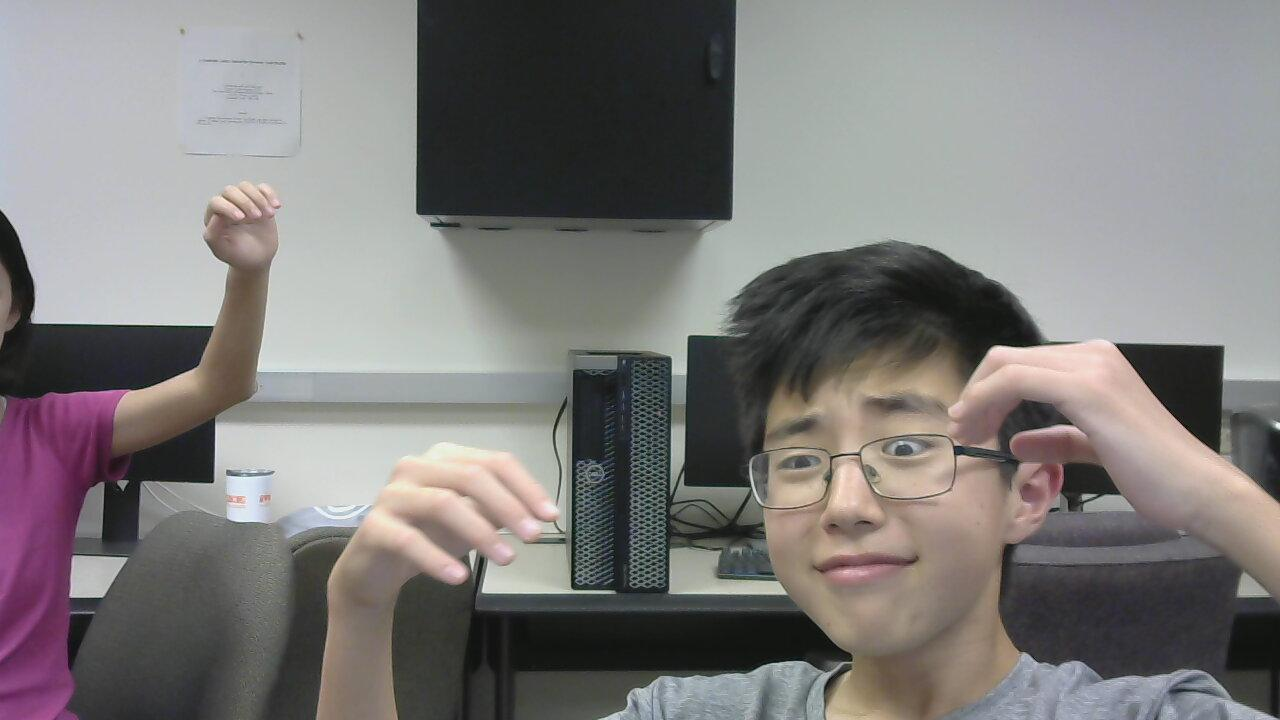hands: (950, 338, 1197, 539), (328, 423, 566, 603), (189, 167, 299, 278)
